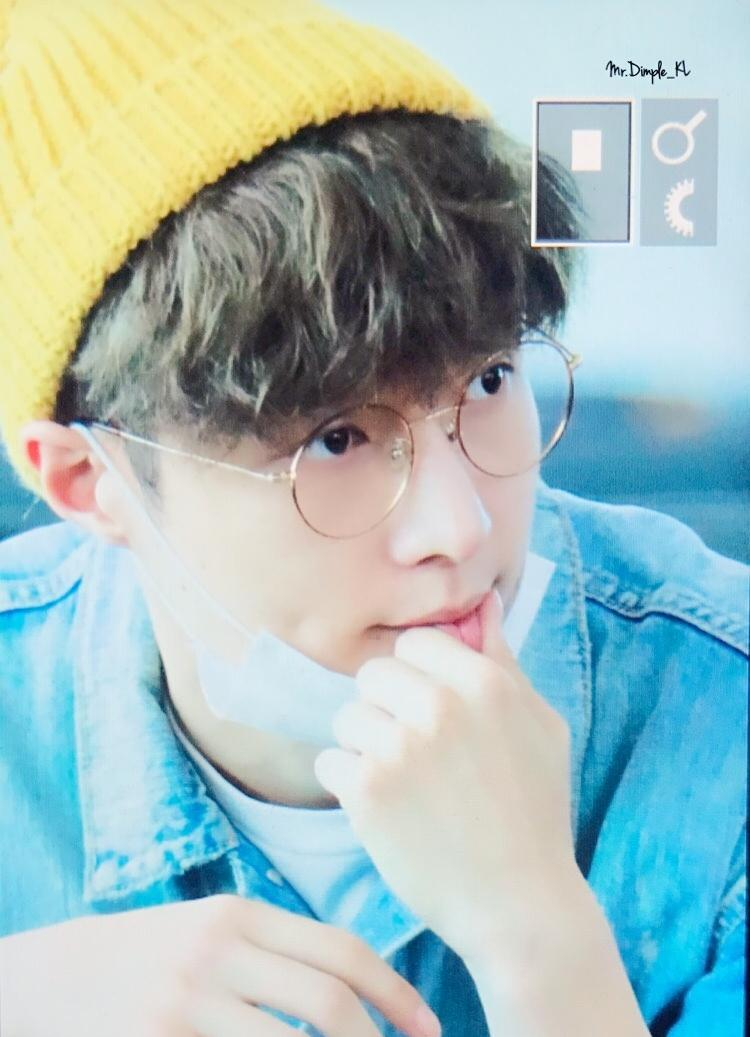WRONG: (144, 314, 541, 747)
